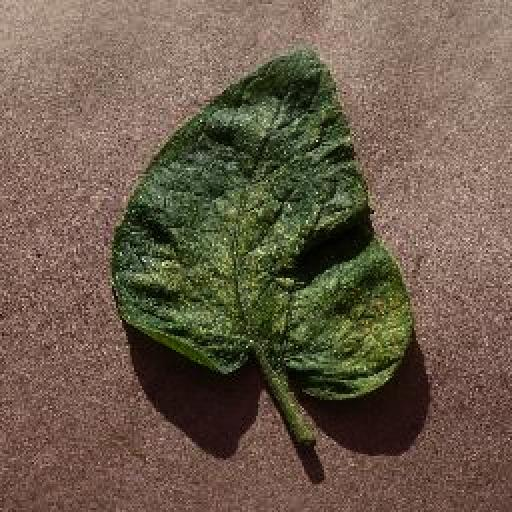disease_tomato: (116, 48, 414, 400)
